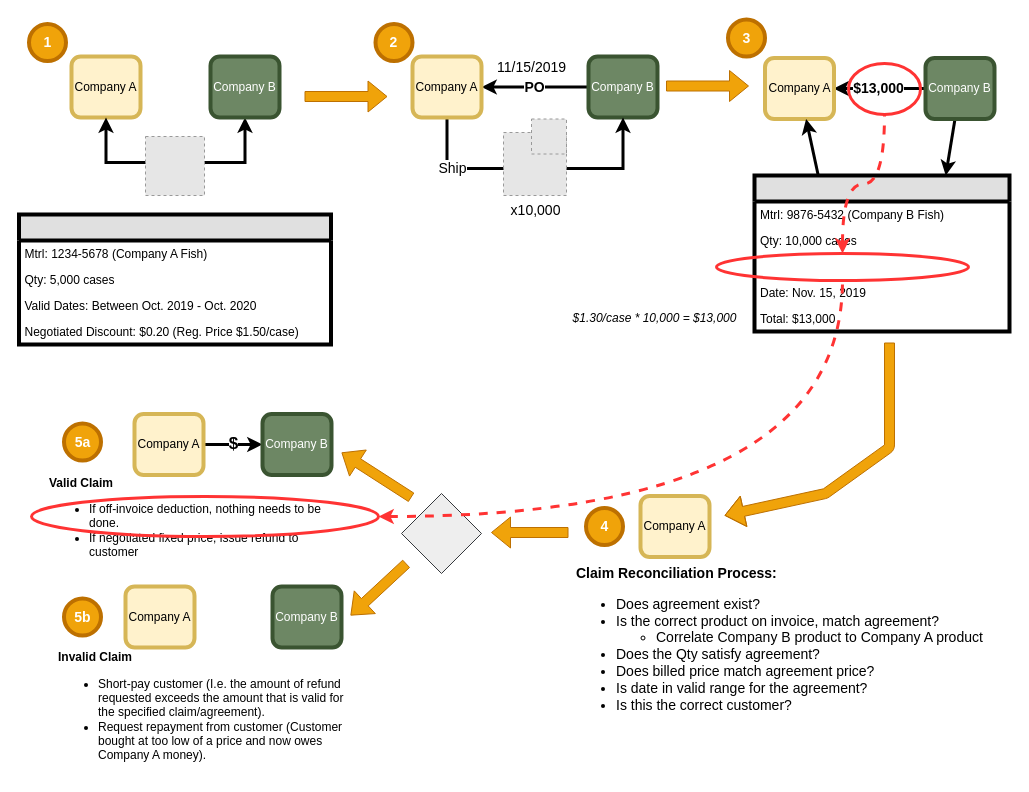
The diagram is 1029 pixels wide and 792 high, and some of its shapes have lost their labels. Grey dashed boxes stand in for pictures. The shapes that lost their labels are listed below. From the top down, each one's box as (x1, y1, x2, y2) in pixels, then its label:
(714, 252, 970, 282): Unit Price: $1.30/case
(752, 173, 1011, 333): Invoice Data
(16, 212, 332, 346): Company A's Agreement Terms
(400, 492, 482, 574): Is Claim Valid?
